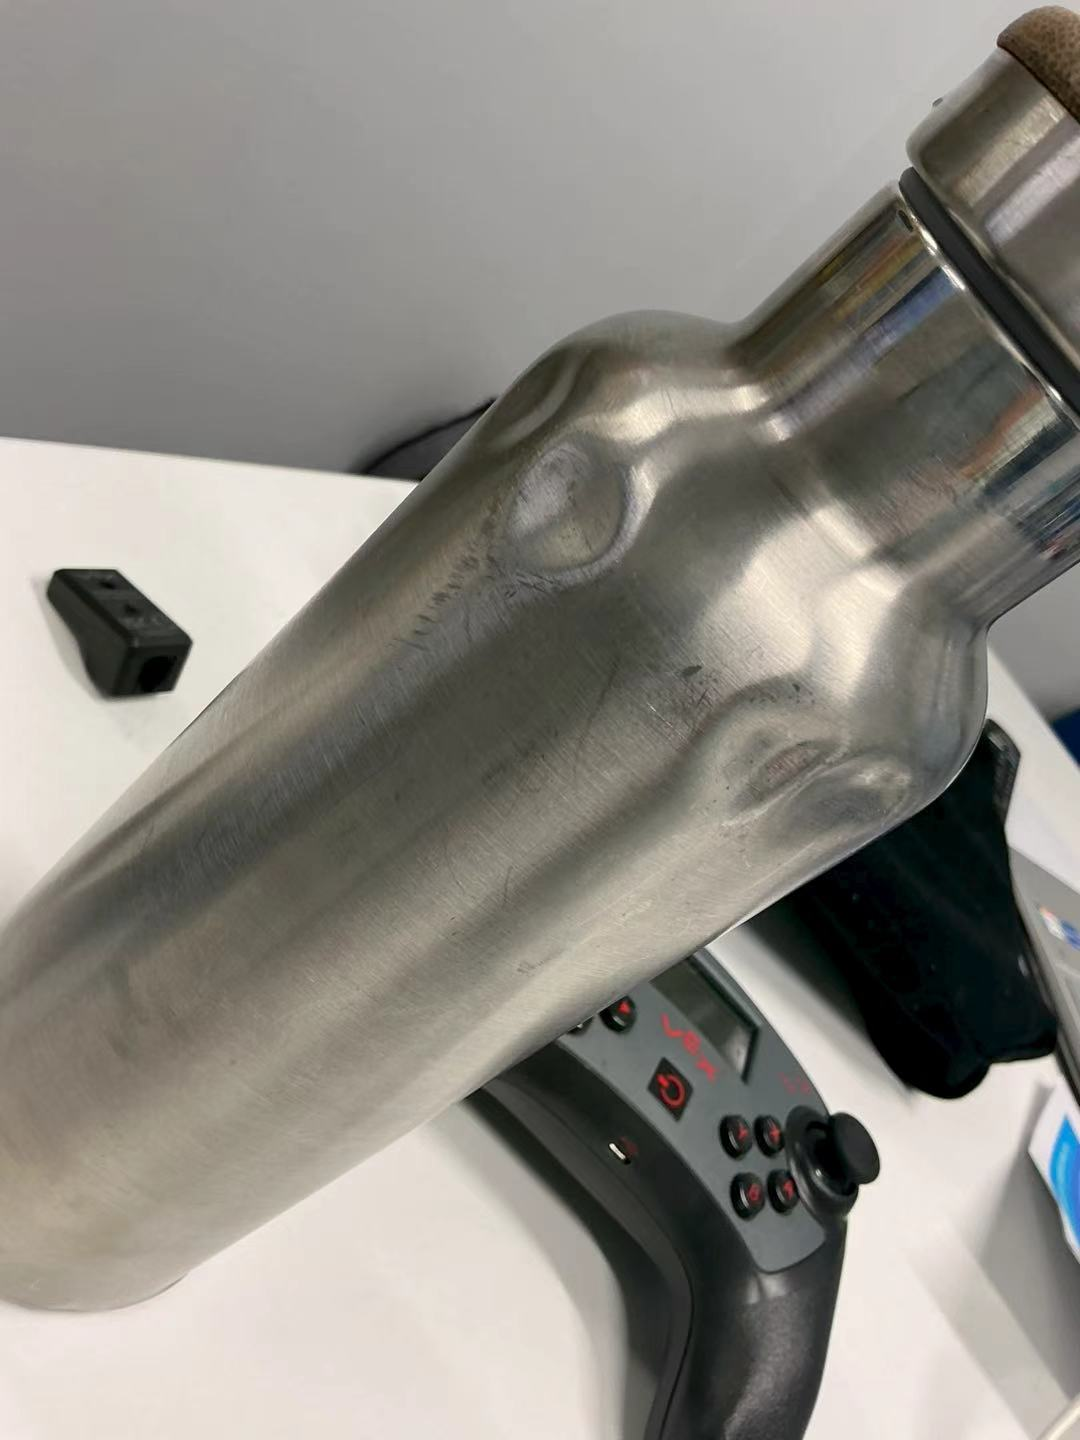Water_Bottle: (6, 58, 1080, 1324)
